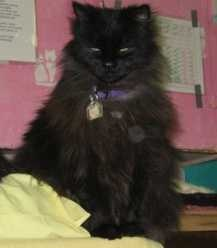Cat: (0, 1, 206, 233)
